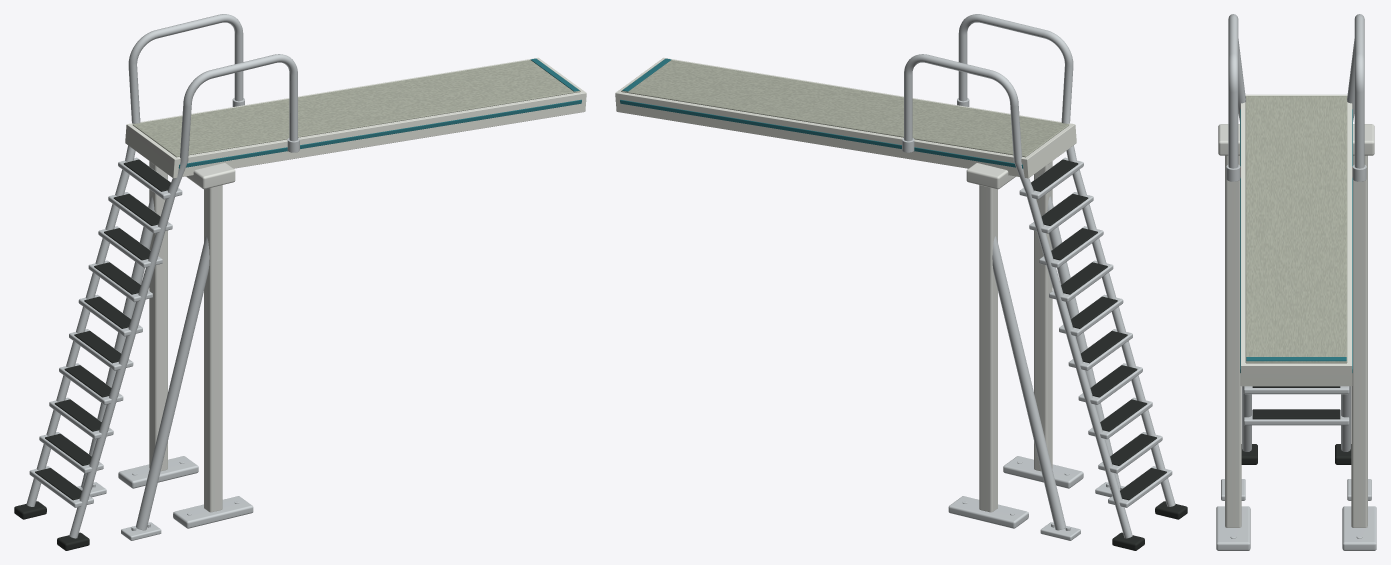
Rendered from diving-board-ladder.glb.
3 renders of one model, left to right at view 1: azimuth 30°, elevation 25°; view 2: azimuth 150°, elevation 25°; view 3: azimuth 270°, elevation 25°, orthographic. The views are drawn at different scales.
Visible parts, largest first — view 1: bonded-grit-walking-surface, fibreglass-springboard, upright-box-section.001, continuous-stainless-handrail.001, continuous-stainless-handrail, upright-box-section, diagonal-support.001, edge-inlay-1, anchored-base-plate.001, diagonal-support, anchored-base-plate, board-support-crossmember; view 2: bonded-grit-walking-surface, fibreglass-springboard, upright-box-section, continuous-stainless-handrail, continuous-stainless-handrail.001, upright-box-section.001, diagonal-support, edge-inlay--1, anchored-base-plate, diagonal-support.001, anchored-base-plate.001, board-support-crossmember; view 3: bonded-grit-walking-surface, fibreglass-springboard, upright-box-section, upright-box-section.001, continuous-stainless-handrail, continuous-stainless-handrail.001, anchored-base-plate, anchored-base-plate.001, inset-rubber-tread, board-support-crossmember, folded-stainless-tread, folded-stainless-tread.001 (+7 smaller).
Boxes of the visible parts, bbox=[...] form: bonded-grit-walking-surface: bbox=[132, 59, 580, 157]; fibreglass-springboard: bbox=[125, 57, 586, 178]; upright-box-section.001: bbox=[204, 185, 222, 512]; continuous-stainless-handrail.001: bbox=[69, 54, 297, 538]; continuous-stainless-handrail: bbox=[26, 14, 243, 506]; upright-box-section: bbox=[149, 161, 167, 471]; diagonal-support.001: bbox=[136, 236, 209, 530]; edge-inlay-1: bbox=[178, 99, 581, 168]; anchored-base-plate.001: bbox=[173, 496, 253, 528]; diagonal-support: bbox=[81, 196, 154, 489]; anchored-base-plate: bbox=[118, 456, 198, 488]; board-support-crossmember: bbox=[186, 163, 235, 189]; bonded-grit-walking-surface: bbox=[621, 59, 1069, 157]; fibreglass-springboard: bbox=[615, 57, 1076, 178]; upright-box-section: bbox=[979, 185, 997, 512]; continuous-stainless-handrail: bbox=[904, 54, 1132, 538]; continuous-stainless-handrail.001: bbox=[958, 14, 1175, 506]; upright-box-section.001: bbox=[1034, 161, 1052, 471]; diagonal-support: bbox=[992, 236, 1065, 530]; edge-inlay--1: bbox=[620, 99, 1023, 168]; anchored-base-plate: bbox=[948, 496, 1028, 528]; diagonal-support.001: bbox=[1047, 196, 1120, 489]; anchored-base-plate.001: bbox=[1003, 456, 1083, 488]; board-support-crossmember: bbox=[966, 163, 1015, 189]; bonded-grit-walking-surface: bbox=[1245, 96, 1347, 363]; fibreglass-springboard: bbox=[1240, 94, 1352, 386]; upright-box-section: bbox=[1351, 155, 1367, 527]; upright-box-section.001: bbox=[1225, 155, 1241, 527]; continuous-stainless-handrail: bbox=[1341, 14, 1364, 451]; continuous-stainless-handrail.001: bbox=[1228, 14, 1251, 451]; anchored-base-plate: bbox=[1342, 506, 1376, 550]; anchored-base-plate.001: bbox=[1216, 506, 1250, 550]; inset-rubber-tread: bbox=[1252, 409, 1340, 419]; board-support-crossmember: bbox=[1218, 124, 1374, 155]; folded-stainless-tread: bbox=[1243, 410, 1349, 425]; folded-stainless-tread.001: bbox=[1243, 386, 1349, 394].
Size of the model in its own units: 5.08 by 4.15 by 1.17.
Materials: 6 (1 with a texture image).
